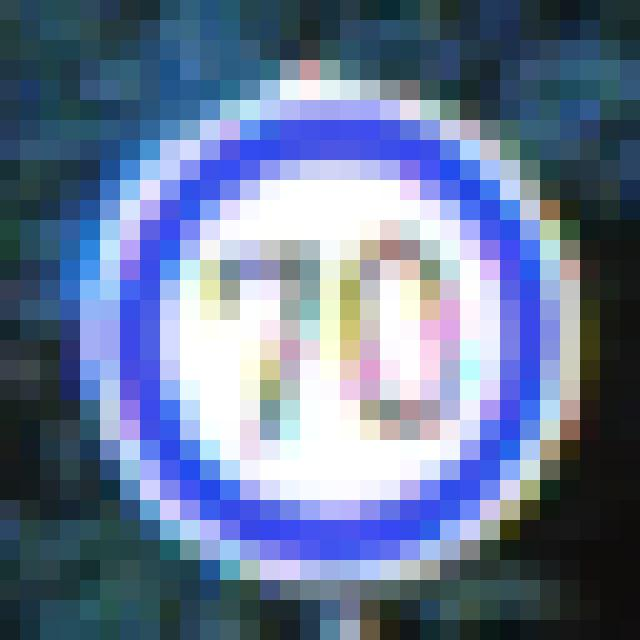SPEED LIMIT 70: (91, 73, 565, 580)
